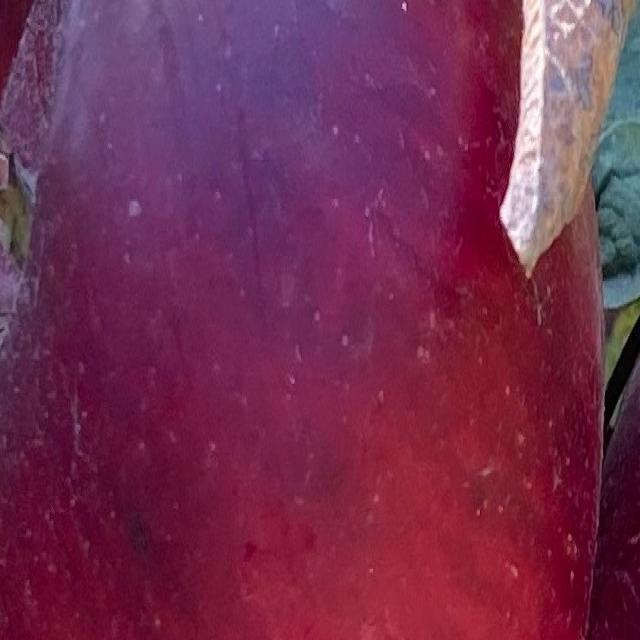100-_ripeness: (0, 0, 603, 640), (590, 355, 640, 640)
